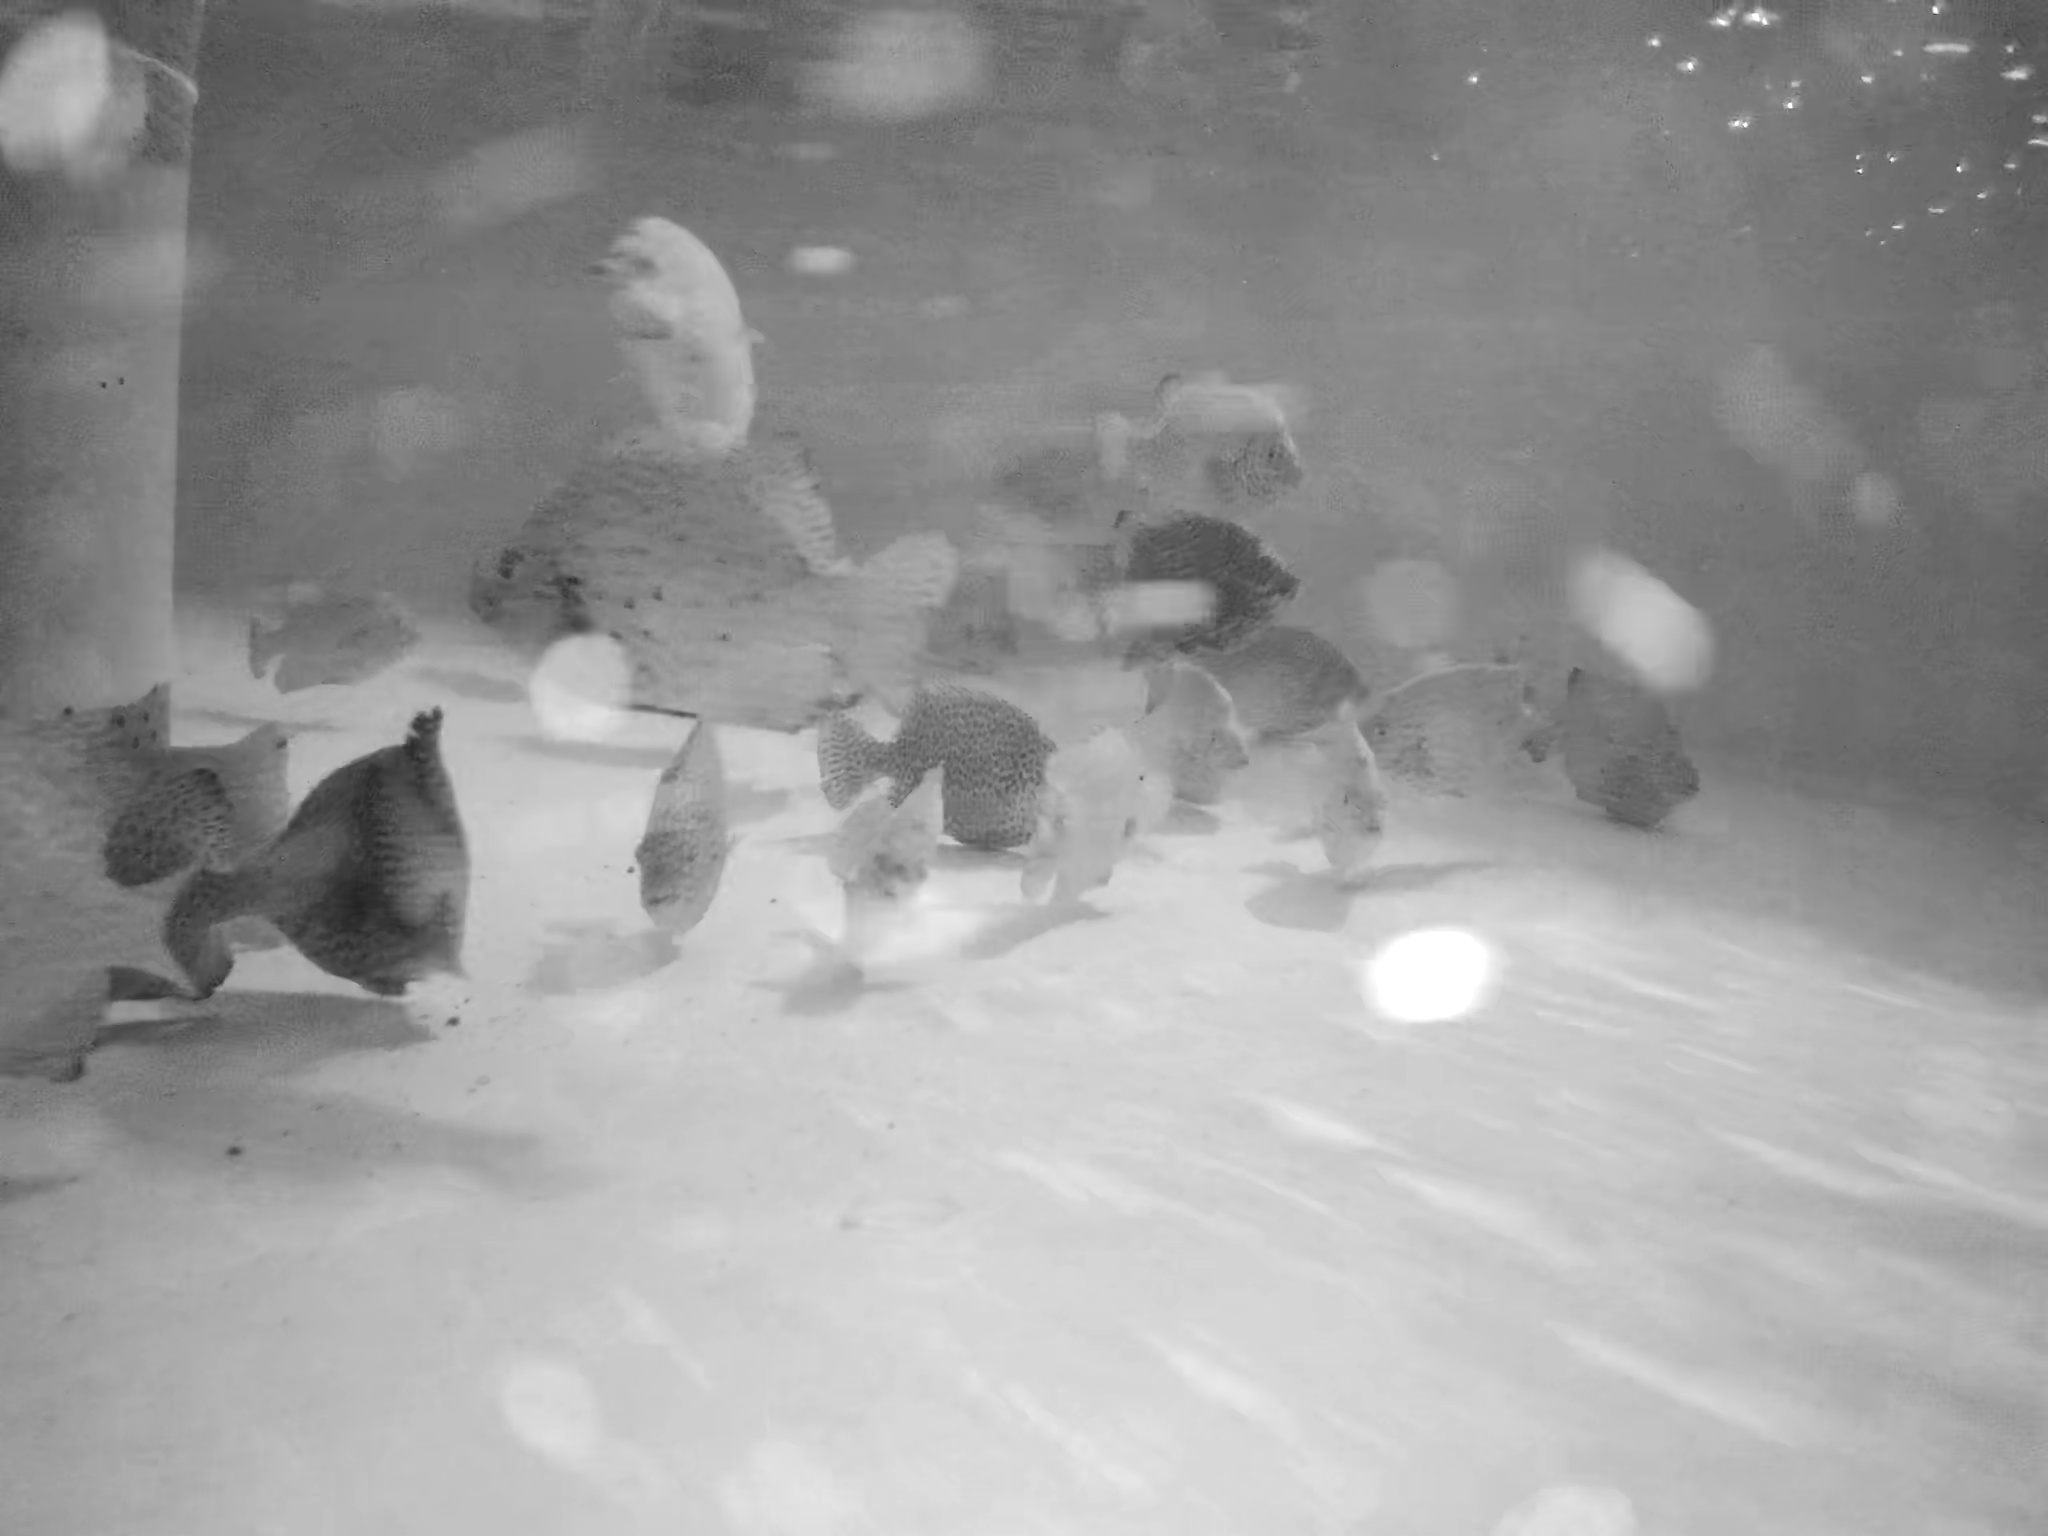fish: (464, 445, 966, 708), (185, 723, 477, 991), (2, 765, 214, 1060), (593, 207, 768, 449), (1092, 357, 1306, 515), (814, 692, 1045, 833), (1358, 652, 1563, 795), (1538, 660, 1698, 828), (1005, 736, 1166, 900), (100, 728, 289, 857), (619, 729, 727, 933), (842, 758, 943, 971), (1122, 531, 1309, 629), (1193, 629, 1371, 733), (255, 591, 427, 686), (1145, 678, 1245, 795), (1314, 750, 1388, 858)
